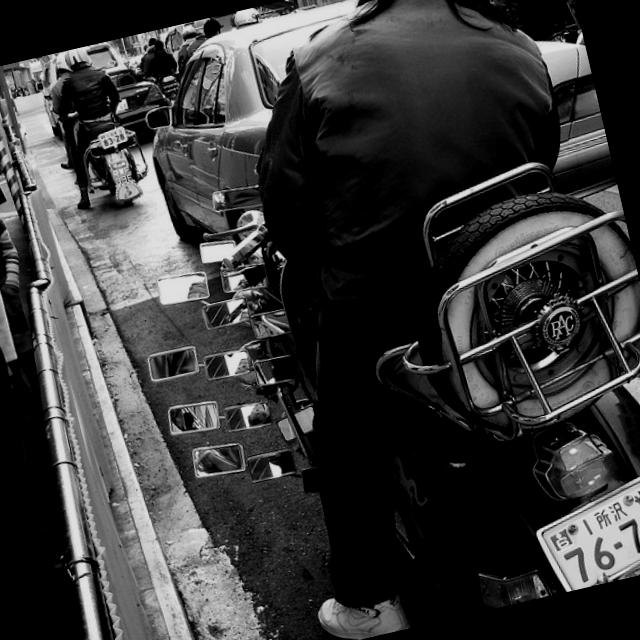Vehicle: (113, 103, 640, 640), (127, 0, 413, 247), (518, 32, 619, 207), (82, 112, 162, 211), (159, 10, 251, 80), (110, 73, 176, 137), (160, 73, 184, 104)
